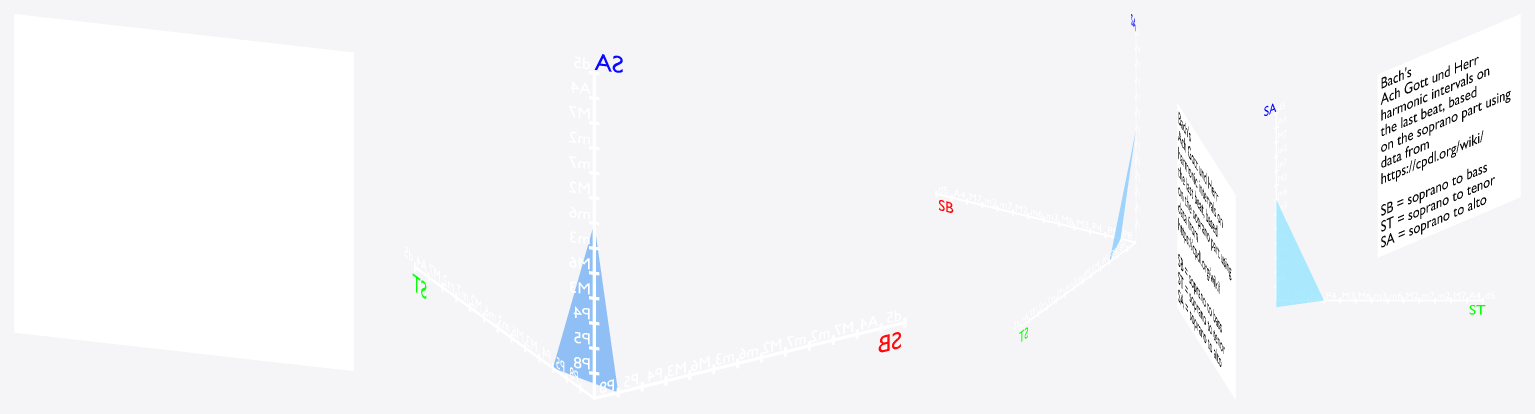
The model's file is sopranoFinalChart.glb.
3 views of the same model, side by side, from view 1: azimuth 30°, elevation 25°; view 2: azimuth 150°, elevation 25°; view 3: azimuth 270°, elevation 25° (orthographic). The views are drawn at different scales.
Visible parts, largest first — view 1: textBox, intervals, z_axis, x_axis, y_axis; view 2: textBox, text, x_axis, intervals, z_axis, y_axis; view 3: textBox, text, intervals, y_axis, z_axis.
Boxes of the visible parts, left/top/right/bottom form: textBox: left=14, top=14, right=353, bottom=370; intervals: left=553, top=229, right=617, bottom=391; z_axis: left=589, top=71, right=599, bottom=398; x_axis: left=594, top=317, right=906, bottom=399; y_axis: left=414, top=262, right=594, bottom=399; textBox: left=1177, top=103, right=1235, bottom=399; text: left=1178, top=112, right=1231, bottom=366; x_axis: left=935, top=190, right=1135, bottom=242; intervals: left=1110, top=132, right=1135, bottom=259; z_axis: left=1135, top=31, right=1136, bottom=242; y_axis: left=1020, top=241, right=1135, bottom=329; textBox: left=1377, top=14, right=1520, bottom=257; text: left=1381, top=57, right=1510, bottom=247; intervals: left=1276, top=200, right=1323, bottom=307; y_axis: left=1276, top=297, right=1483, bottom=303; z_axis: left=1274, top=111, right=1278, bottom=300.
Bounding box in the file's own units: 2.19 × 1.14 × 1.24.
